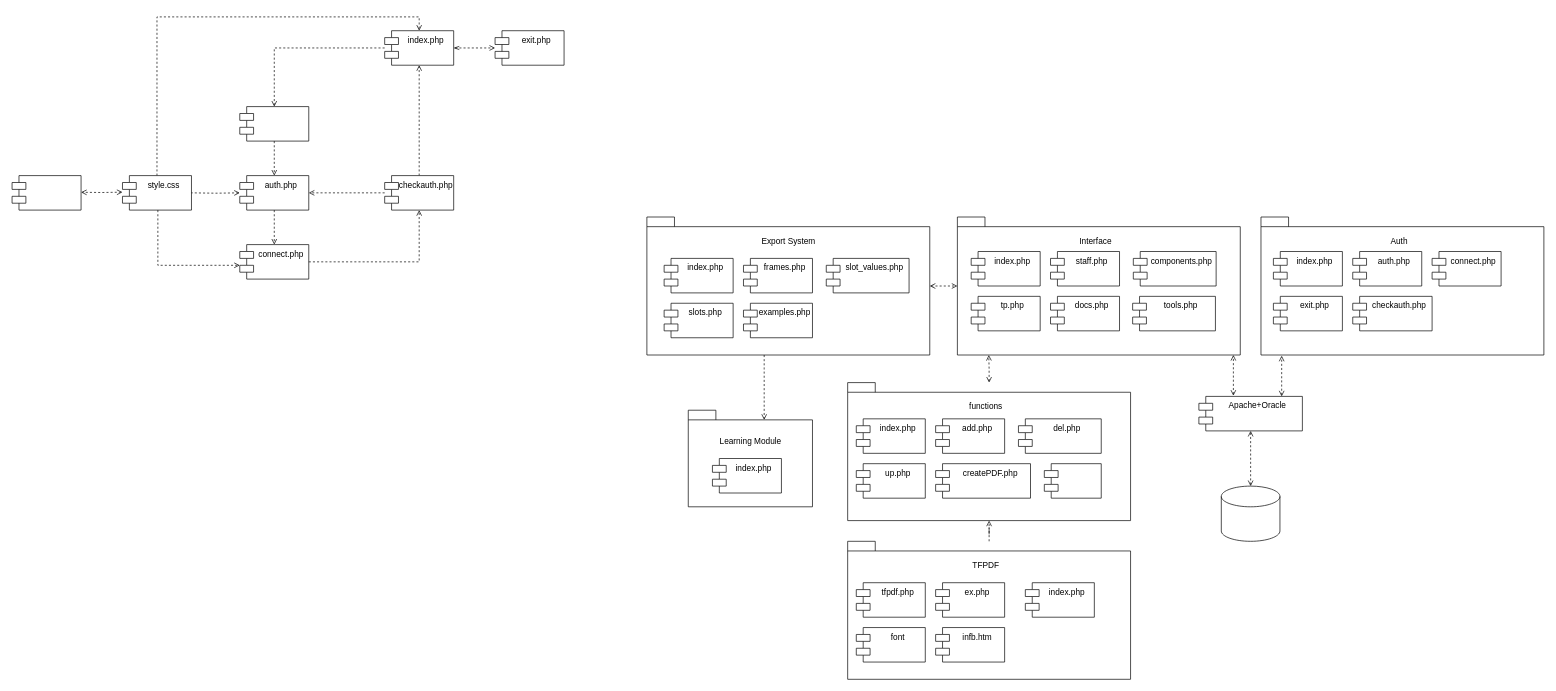
Image size: 1556x691. Some labels were removed from this diagram. The shapes that lost their labels are listed below. From the top down, each one's box as (x1, y1, x2, y2) in pixels, then its label:
(239, 106, 309, 141): login.php
(11, 175, 81, 210): font.css
(1044, 463, 1101, 498): dis.php
(1221, 485, 1280, 541): Products DB
